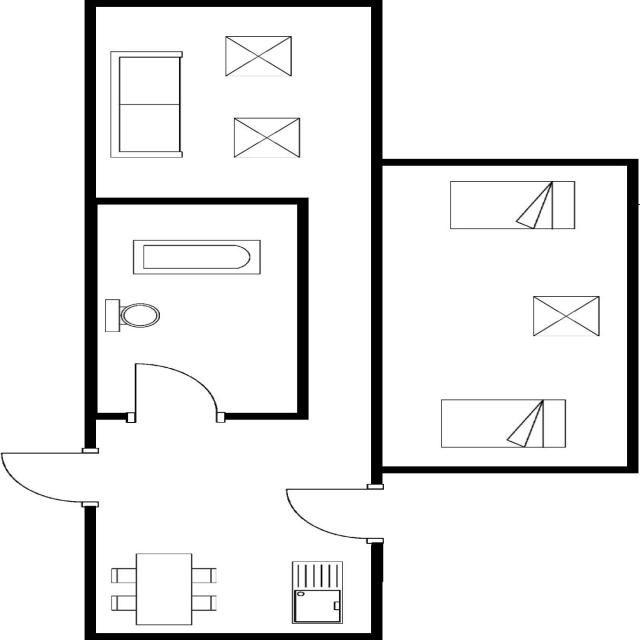bed: (442, 177, 583, 234), (436, 395, 576, 452)
coffee_table: (225, 114, 307, 160), (526, 292, 606, 338), (220, 32, 298, 78)
dining_table: (102, 548, 228, 629)
large_sink: (100, 295, 166, 336)
large_sofa: (104, 46, 188, 160)
sink: (282, 555, 354, 629)
tub: (126, 238, 266, 278)
